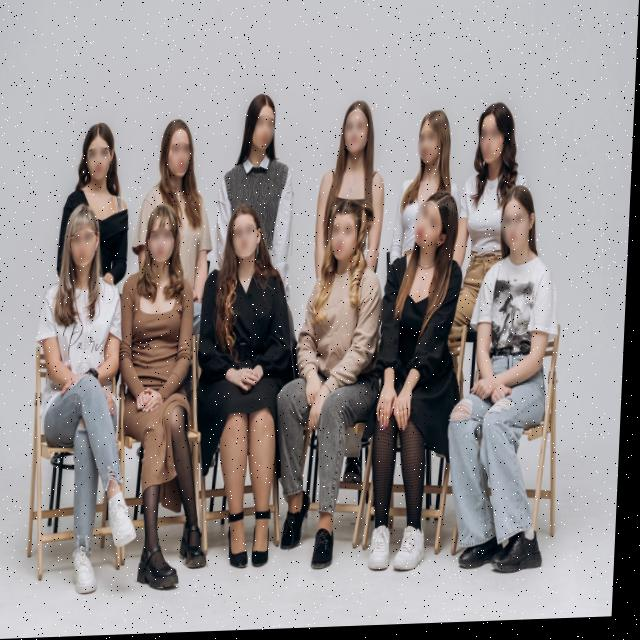Person: (30, 199, 152, 613), (117, 204, 230, 611), (279, 202, 397, 581), (460, 182, 568, 588), (368, 190, 466, 578), (200, 202, 299, 578), (459, 96, 515, 301), (220, 86, 297, 216), (146, 98, 213, 214), (326, 97, 388, 214), (61, 115, 132, 213), (400, 105, 455, 226)
